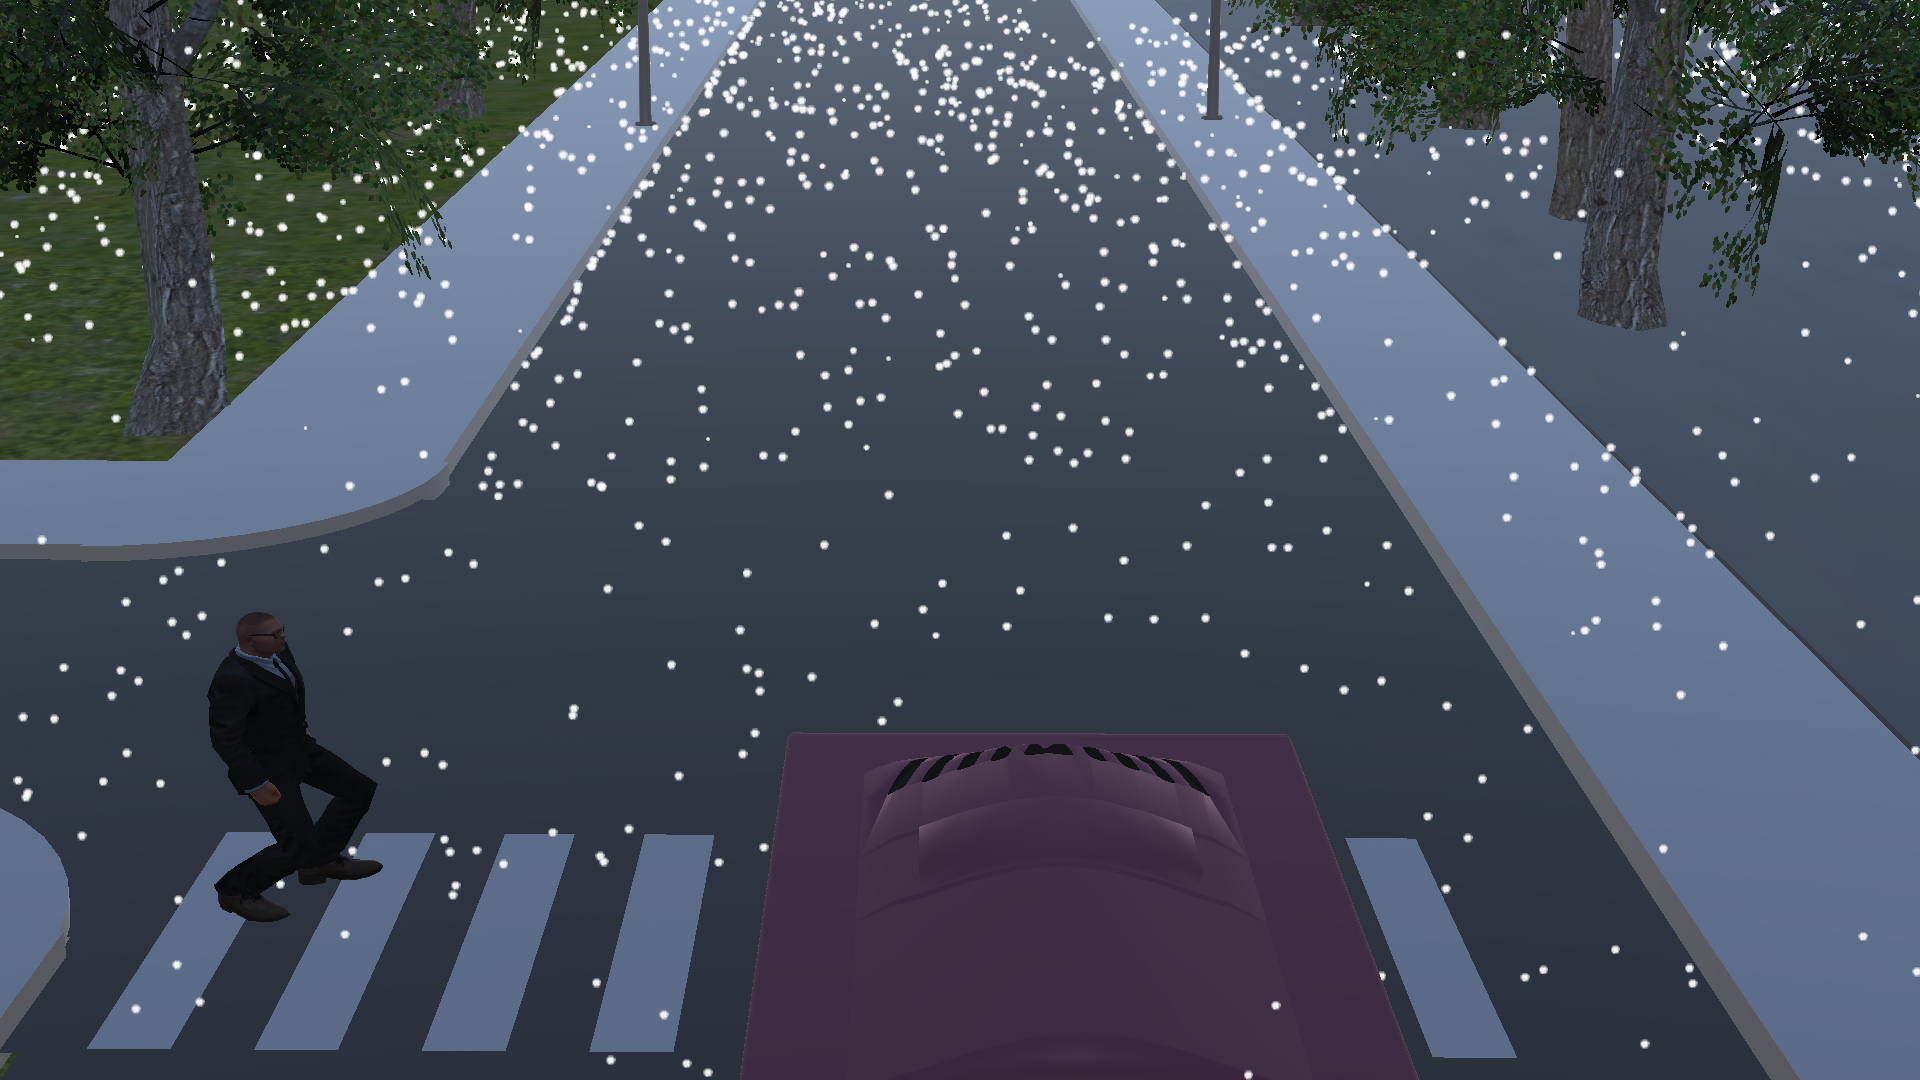pedestrian: (189, 594, 403, 943)
